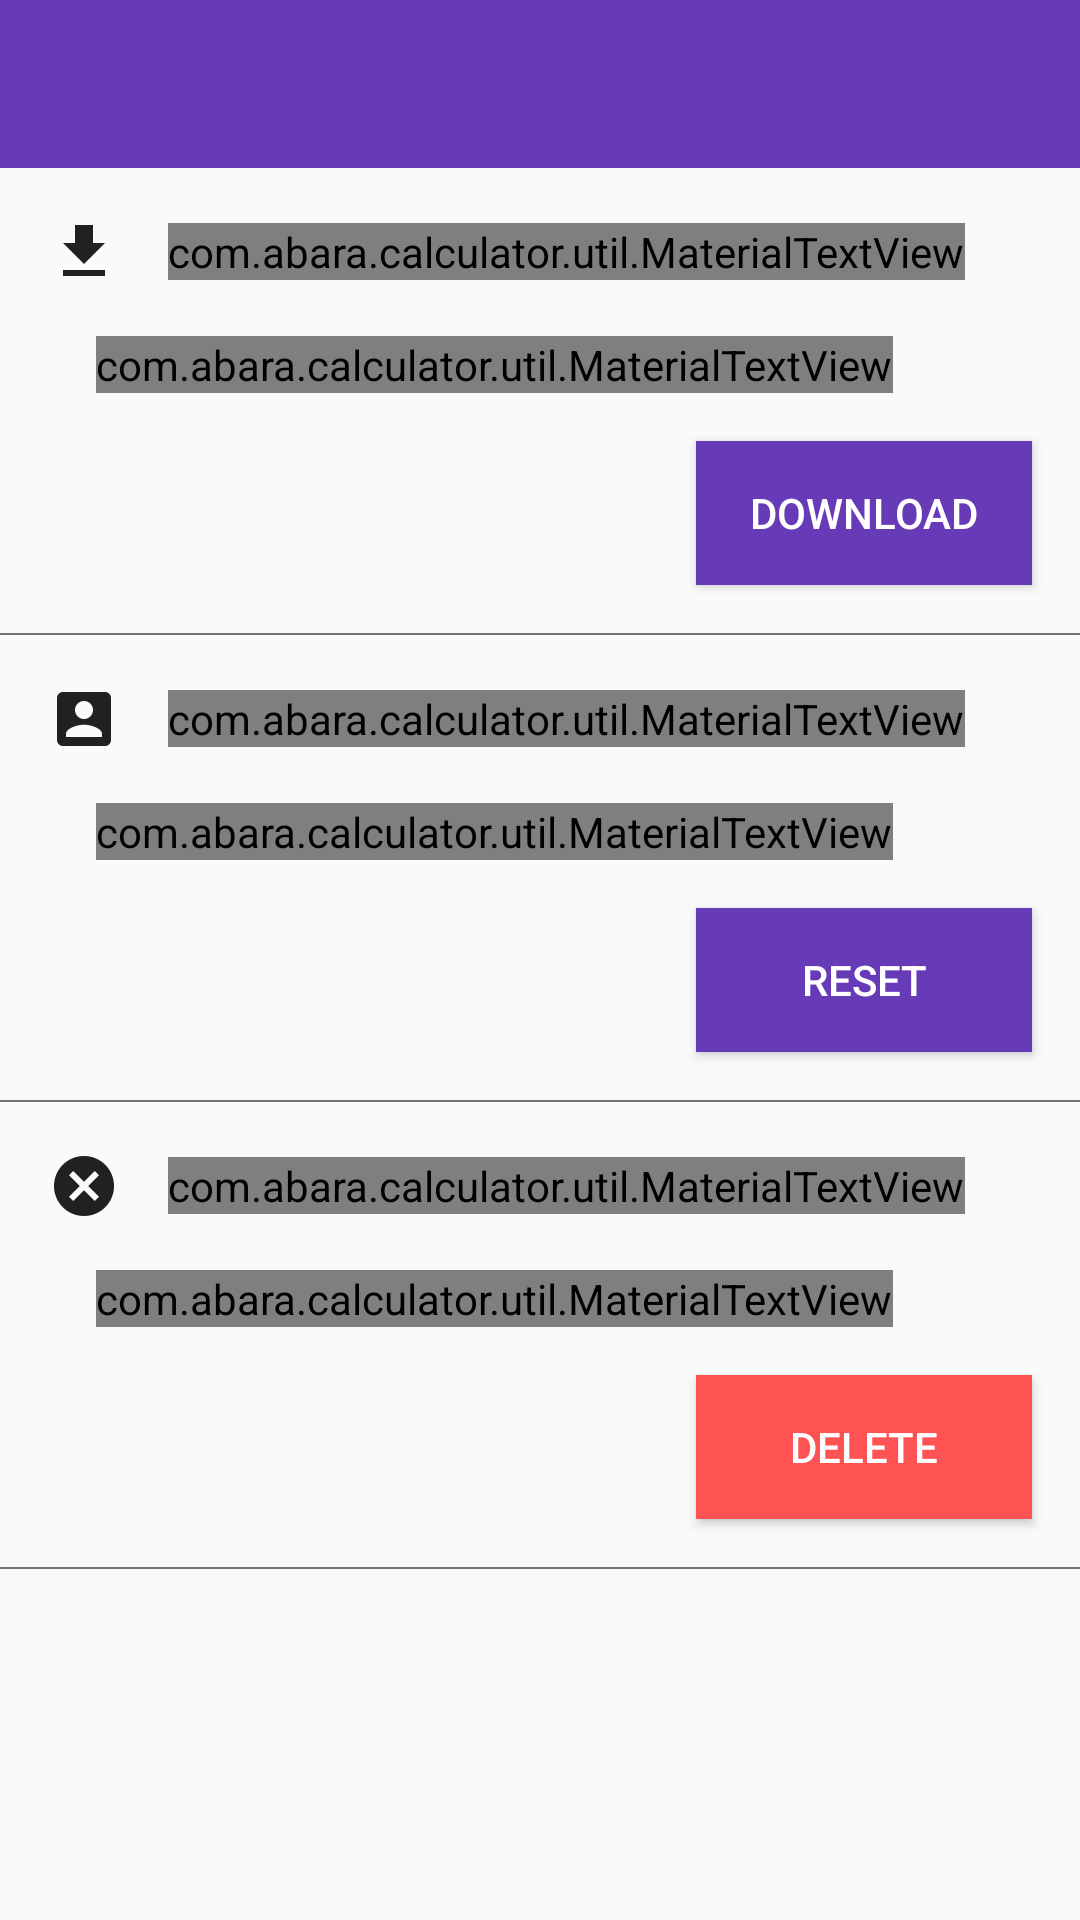

Screen size 1080px x 1920px. Icon name, then its box in pixels as (x1, y1, x2, y2):
get package: (63, 225, 105, 276)
profile account card: (57, 692, 111, 746)
profile delete account: (54, 1156, 114, 1216)
